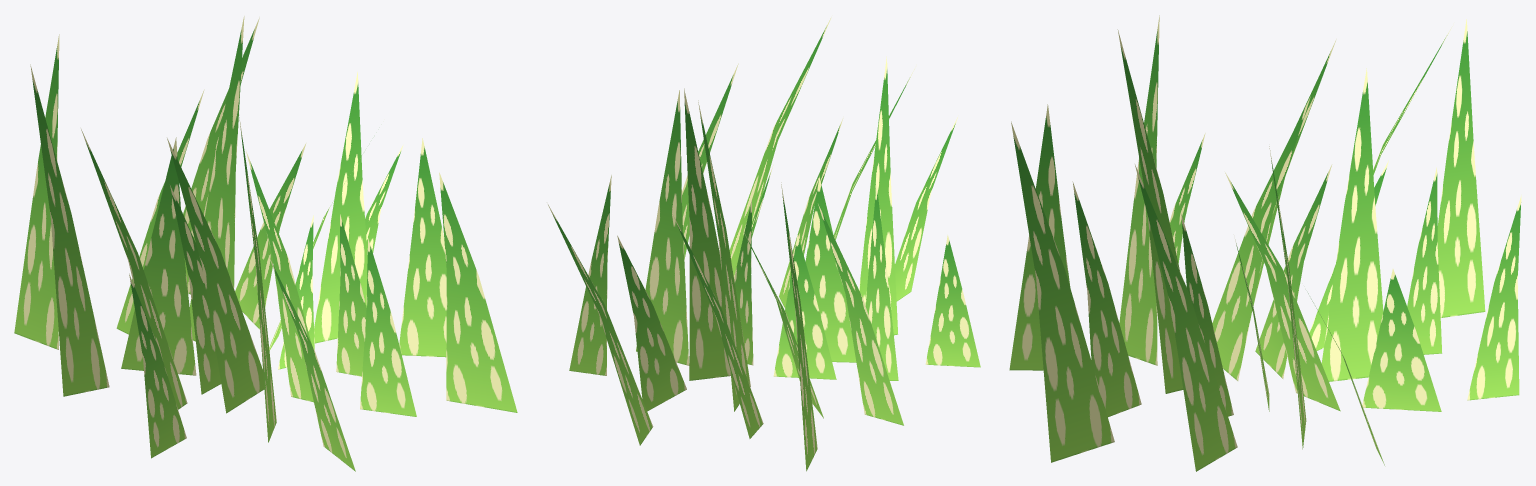
File: soft_grass.obj
3 renders of one model, left to right at view 1: azimuth 30°, elevation 25°; view 2: azimuth 150°, elevation 25°; view 3: azimuth 270°, elevation 25°, orthographic. The views are drawn at different scales.
Visible parts, largest first — view 1: soft_grass; view 2: soft_grass; view 3: soft_grass.
Boxes of the visible parts, x1,y1,x2,y2 form: soft_grass: (14, 16, 517, 471); soft_grass: (548, 17, 980, 471); soft_grass: (1009, 15, 1521, 471).
Bounding box in the file's own units: 0.9212 × 0.82 × 1.14.
1 material, 1 textured.
